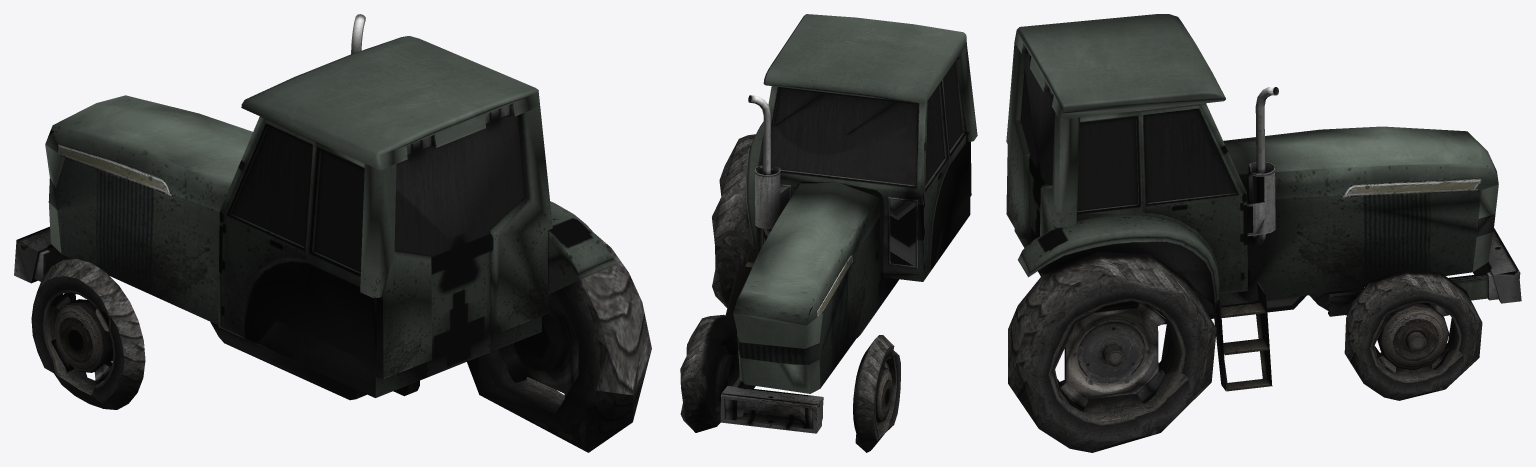
Rendered from tractor.fbx.
3 renders of one model, left to right at view 1: azimuth 30°, elevation 25°; view 2: azimuth 150°, elevation 25°; view 3: azimuth 270°, elevation 25°, orthographic. The views are drawn at different scales.
Visible parts, largest first — view 1: polySurface1745; view 2: polySurface1745; view 3: polySurface1745.
Boxes of the visible parts, x1=… form: polySurface1745: x1=14, y1=14, x2=651, y2=452; polySurface1745: x1=680, y1=14, x2=977, y2=452; polySurface1745: x1=1006, y1=14, x2=1521, y2=452.
Size of the model in its own units: 15.21 by 14.5 by 20.73.
